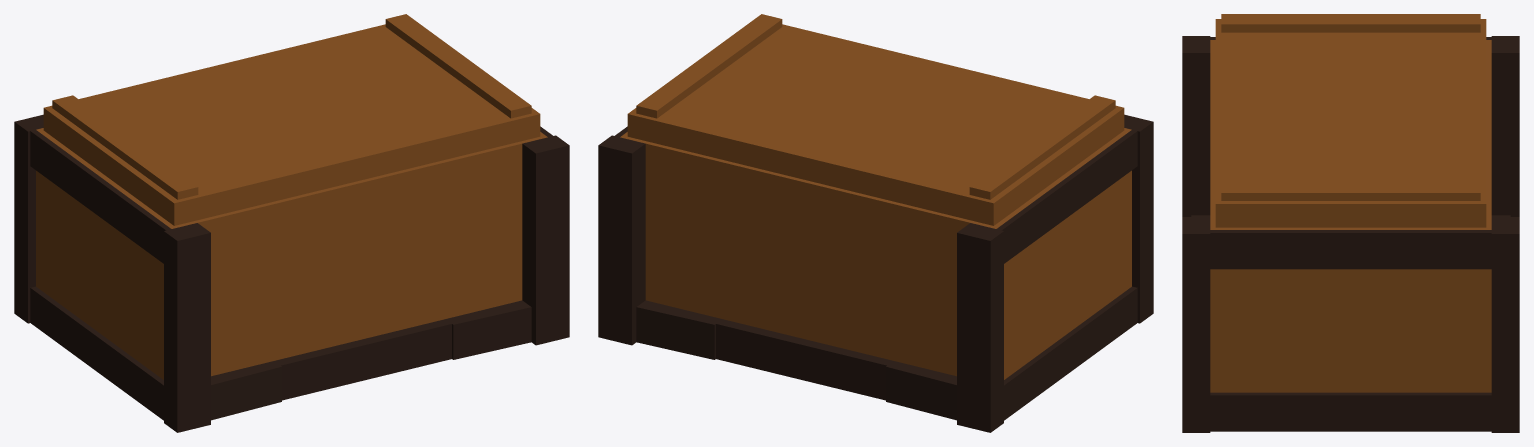
File: LP_P_Crate.fbx
3 renders of one model, left to right at view 1: azimuth 30°, elevation 25°; view 2: azimuth 150°, elevation 25°; view 3: azimuth 270°, elevation 25°, orthographic. The views are drawn at different scales.
Parts seen in each view (by area): view 1: Crate_Box, Crate_WoodPlanks; view 2: Crate_Box, Crate_WoodPlanks; view 3: Crate_Box, Crate_WoodPlanks.
Boxes of the visible parts, <box> form: Crate_Box: <box>36,14,547,379</box>; Crate_WoodPlanks: <box>14,114,569,432</box>; Crate_Box: <box>620,14,1131,379</box>; Crate_WoodPlanks: <box>598,114,1153,432</box>; Crate_Box: <box>1210,14,1491,392</box>; Crate_WoodPlanks: <box>1182,36,1519,432</box>.
Size of the model in its own units: 83.35 by 45.18 by 60.
